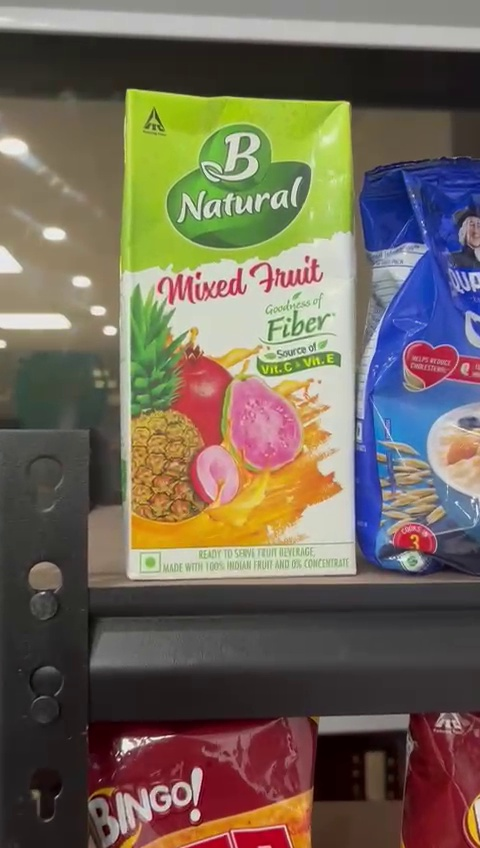Mixed Fruit: (115, 85, 364, 584)
